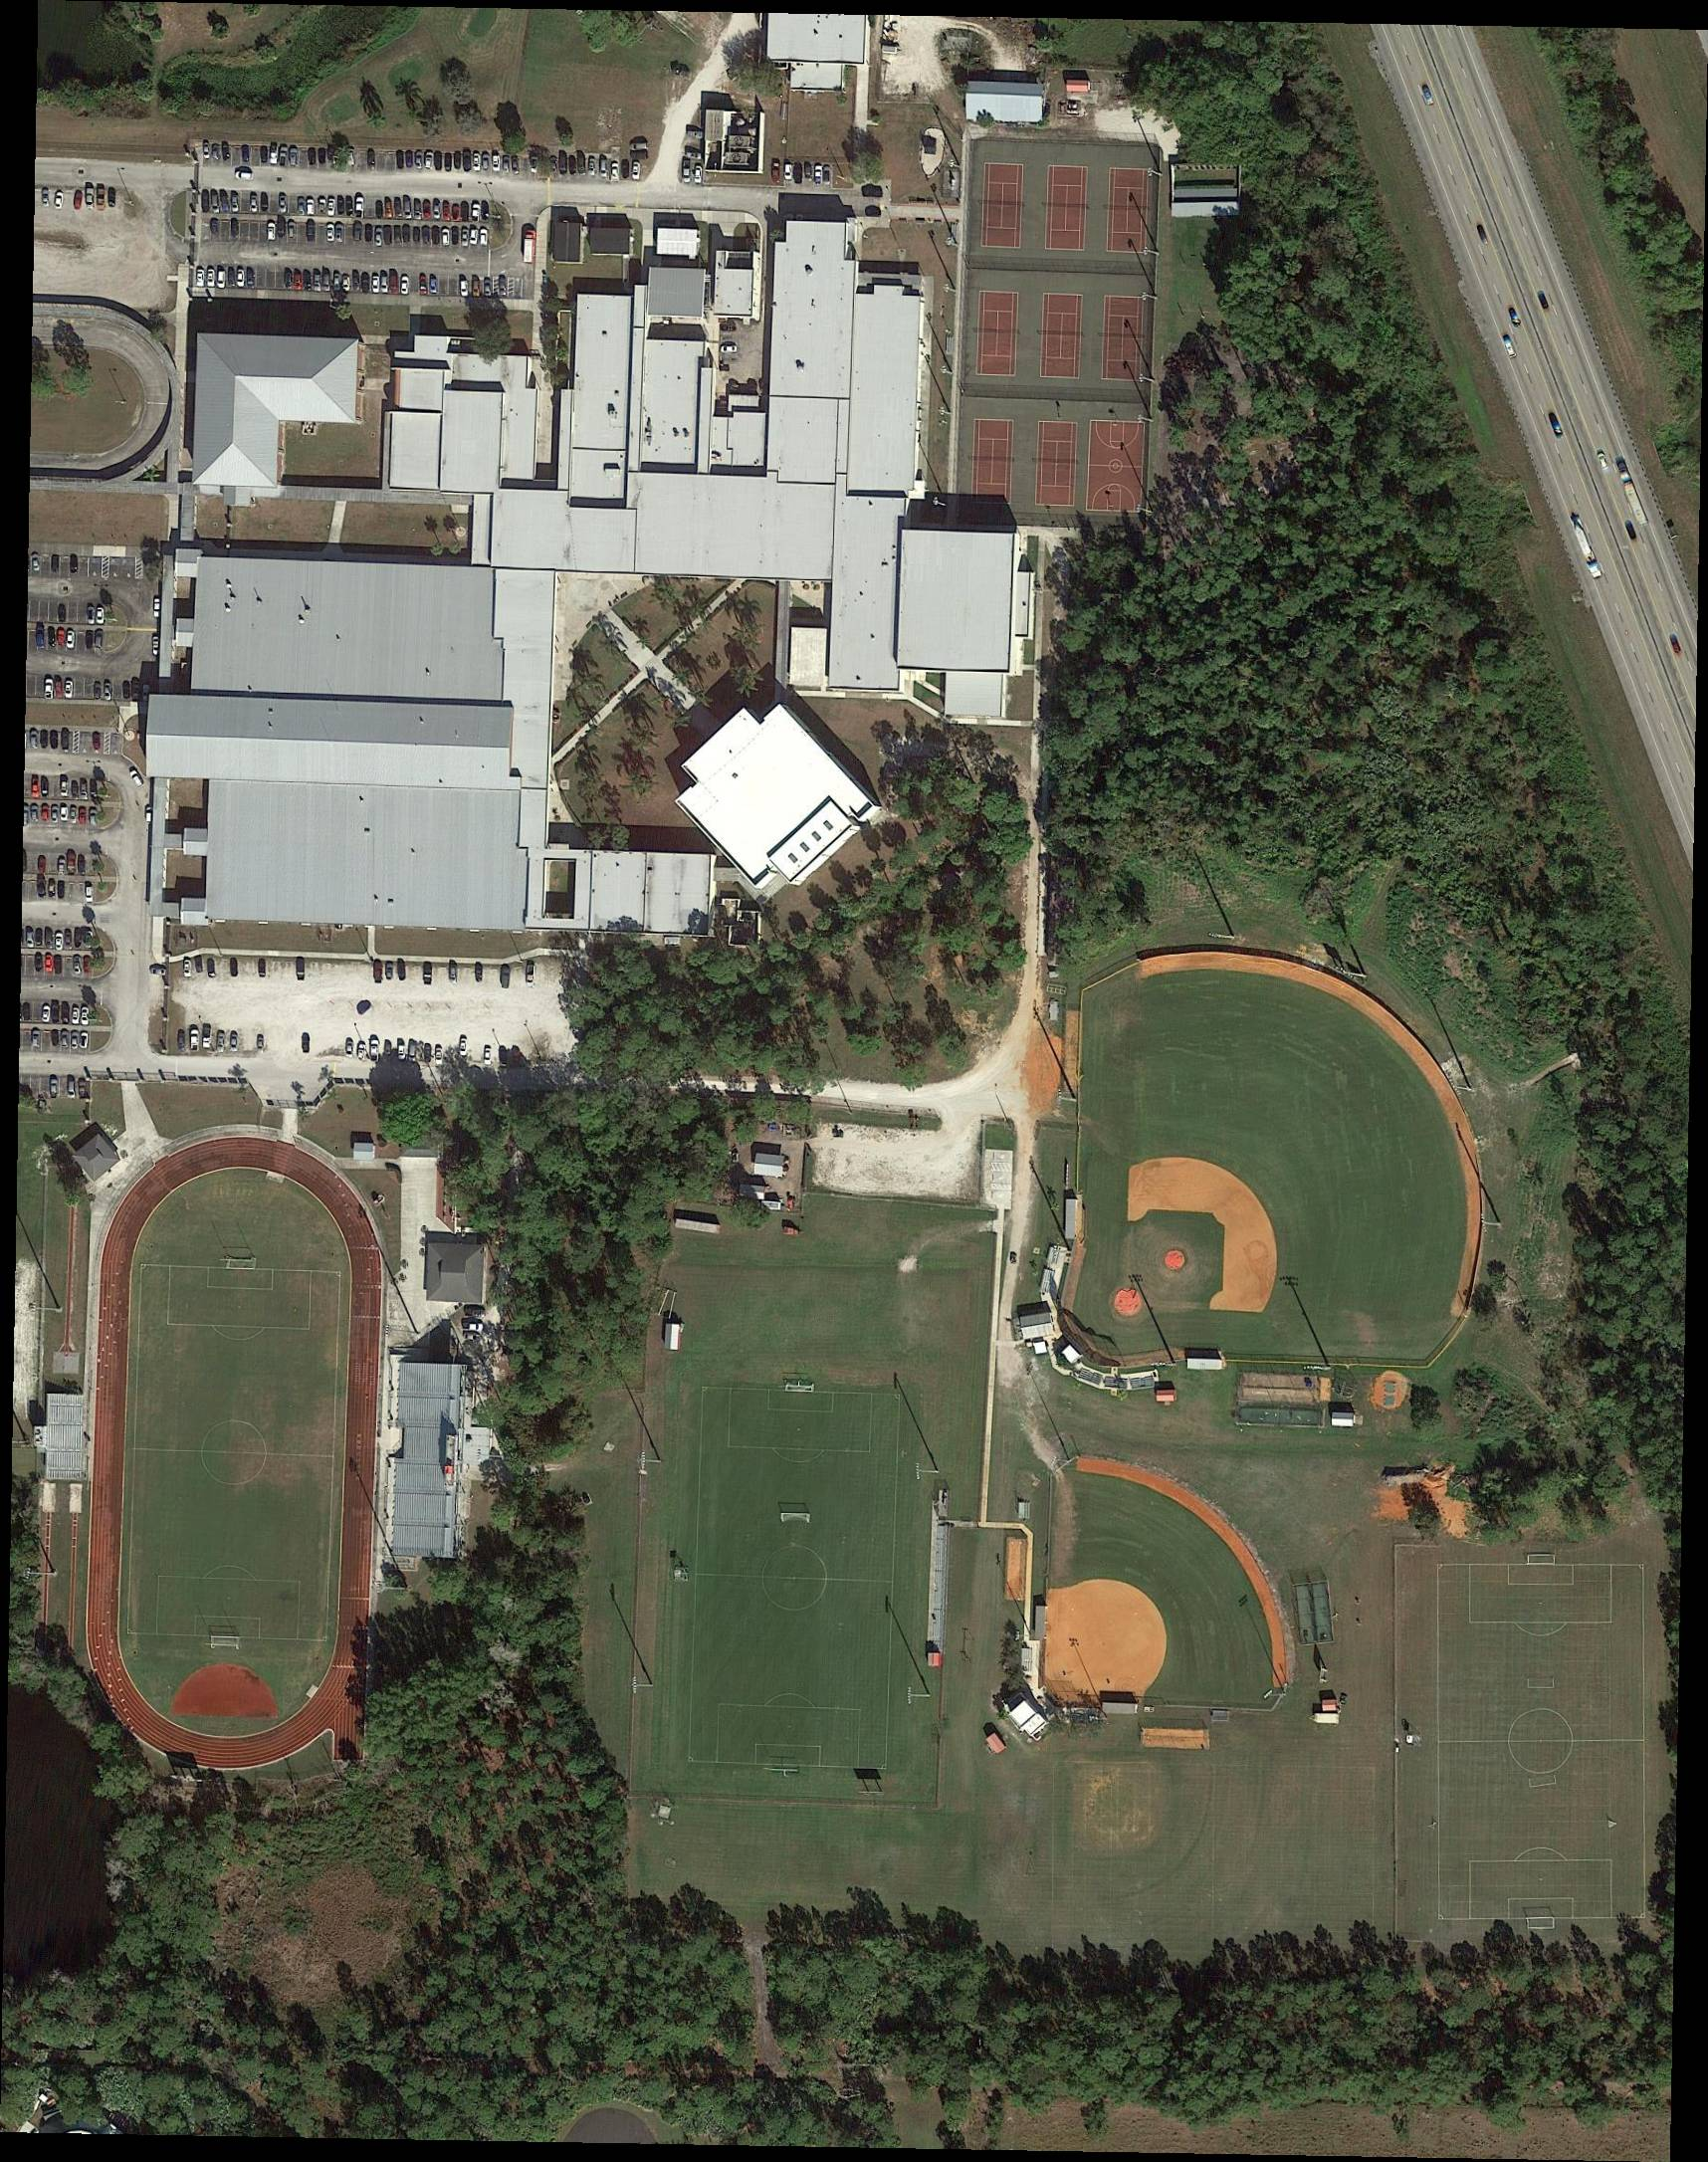baseball diamond: (1128, 1157, 1283, 1314), (1036, 1570, 1168, 1712)
basketball court: (1086, 421, 1146, 512)
ground track field: (82, 1138, 386, 1778)
soccer ball field: (128, 1254, 341, 1653), (690, 1379, 901, 1779), (1438, 1556, 1647, 1932)
tennis court: (1040, 294, 1083, 379), (1106, 168, 1149, 254), (1035, 422, 1078, 507), (975, 292, 1018, 376), (1045, 167, 1088, 252), (981, 163, 1023, 249), (1102, 296, 1143, 381), (972, 420, 1013, 504)
